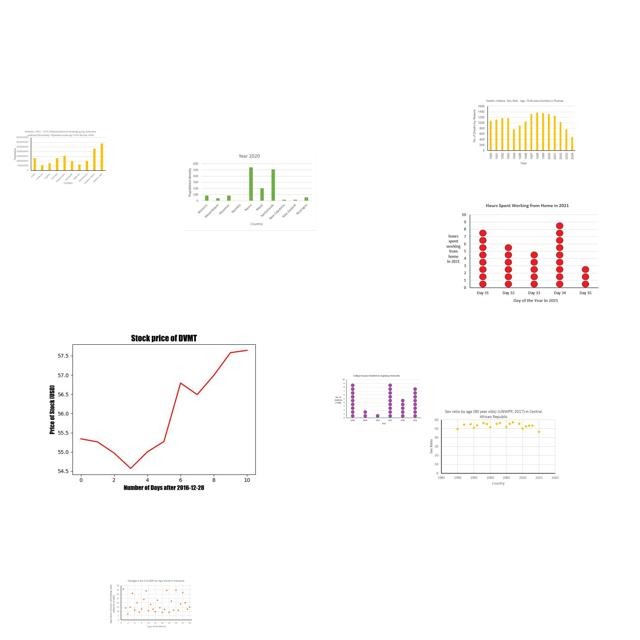Graph: (43, 320, 279, 497), (442, 200, 599, 305), (183, 150, 316, 231), (426, 408, 561, 487), (471, 98, 577, 166), (13, 129, 107, 185), (332, 373, 423, 427), (108, 578, 195, 629)
